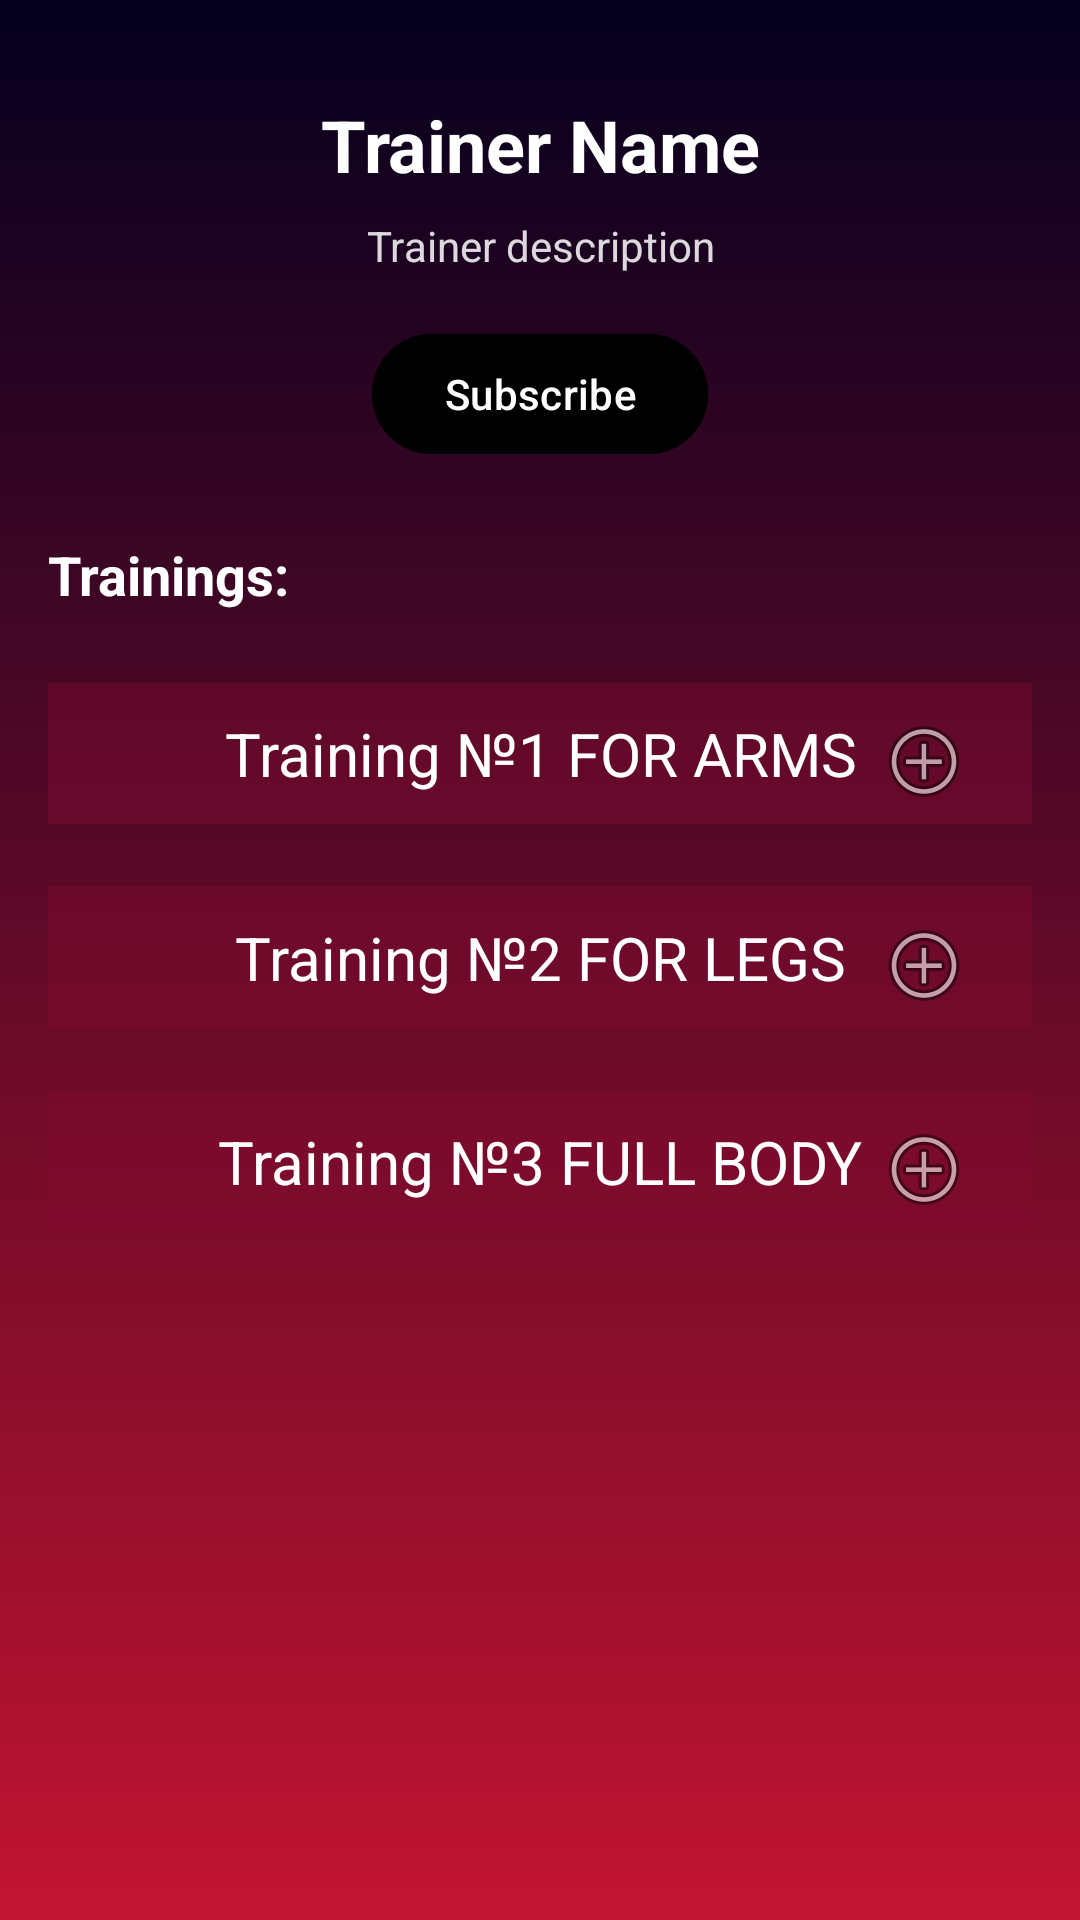

Where to tap for icons on this 1080x1920 app screen, as [x,y]:
add: [924,761], [924,965], [924,1169]
